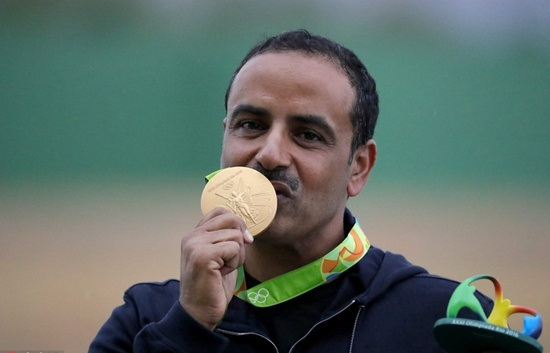face: (219, 65, 350, 229)
